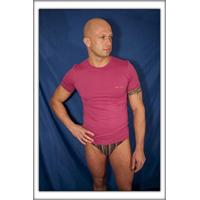abbigliamento: (59, 55, 139, 143)
mutande: (91, 140, 123, 157)
